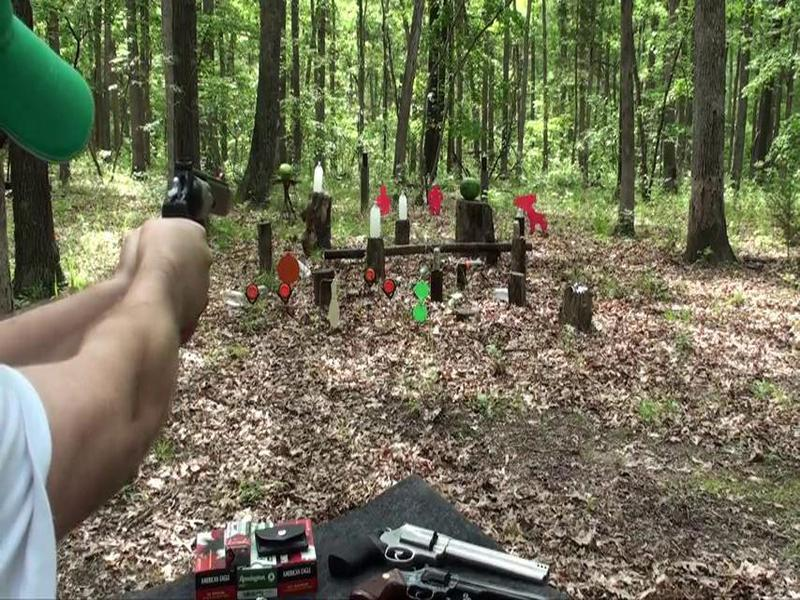Revolver: (140, 145, 237, 264)
